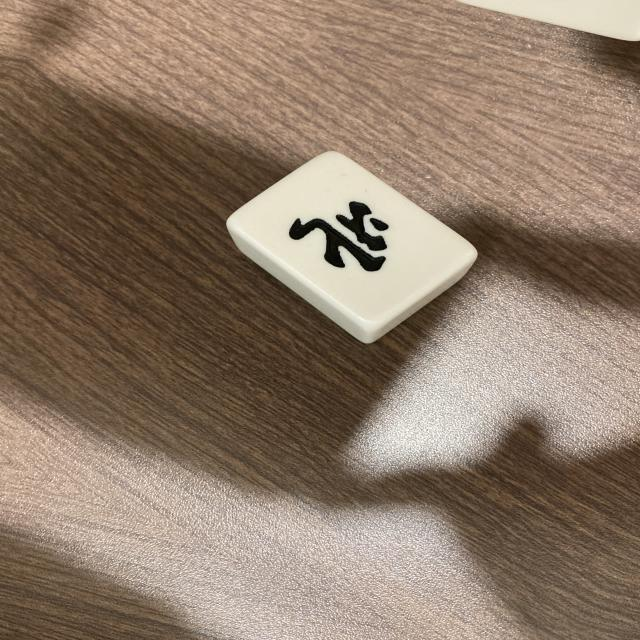north: (243, 153, 469, 337)
